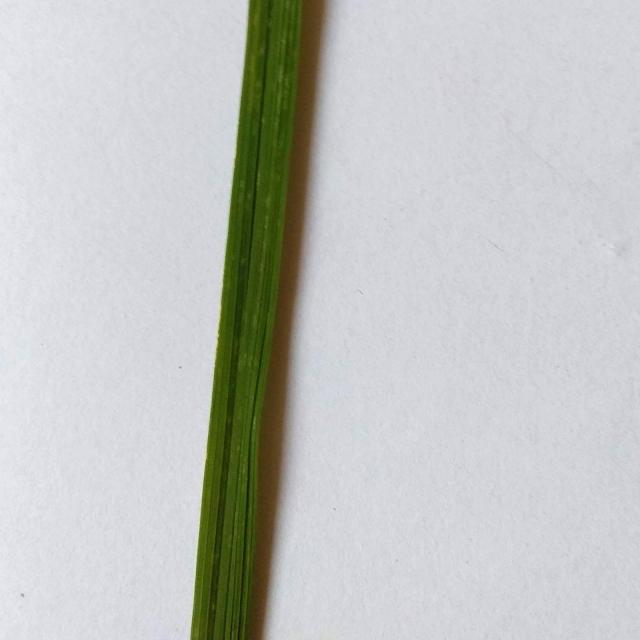healthy: (166, 2, 354, 640)
